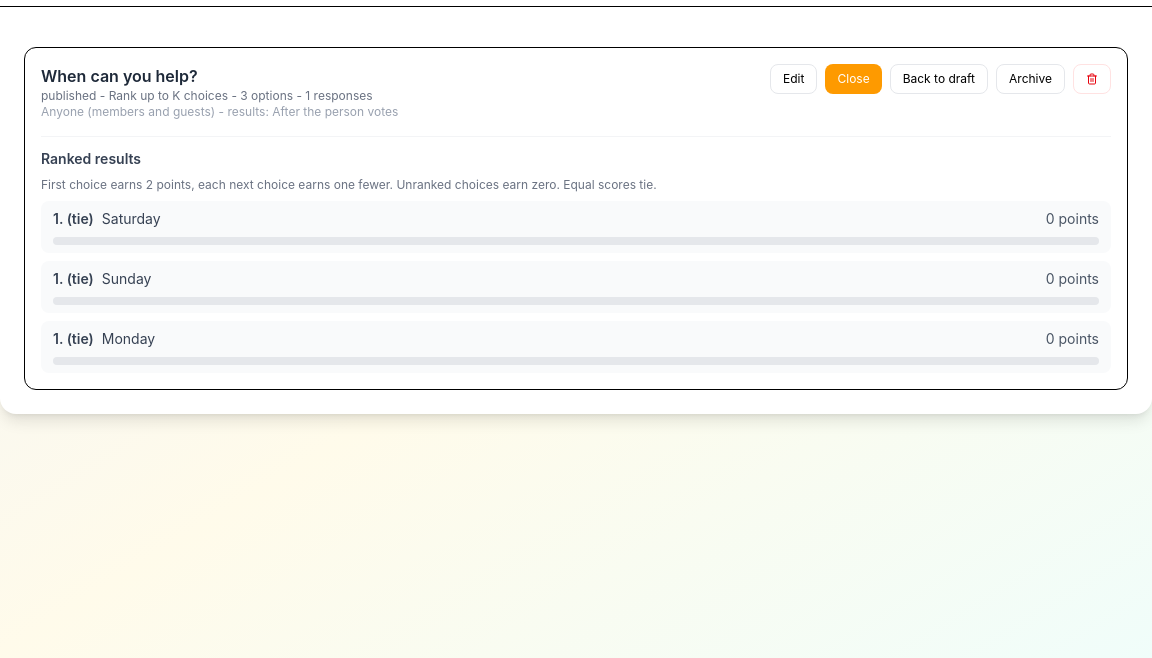
Scenario: locks the voting setup when editing a poll with responses
Click the button "Edit".
click(794, 79)  # box [770,64,818,94]
(page scrolled)
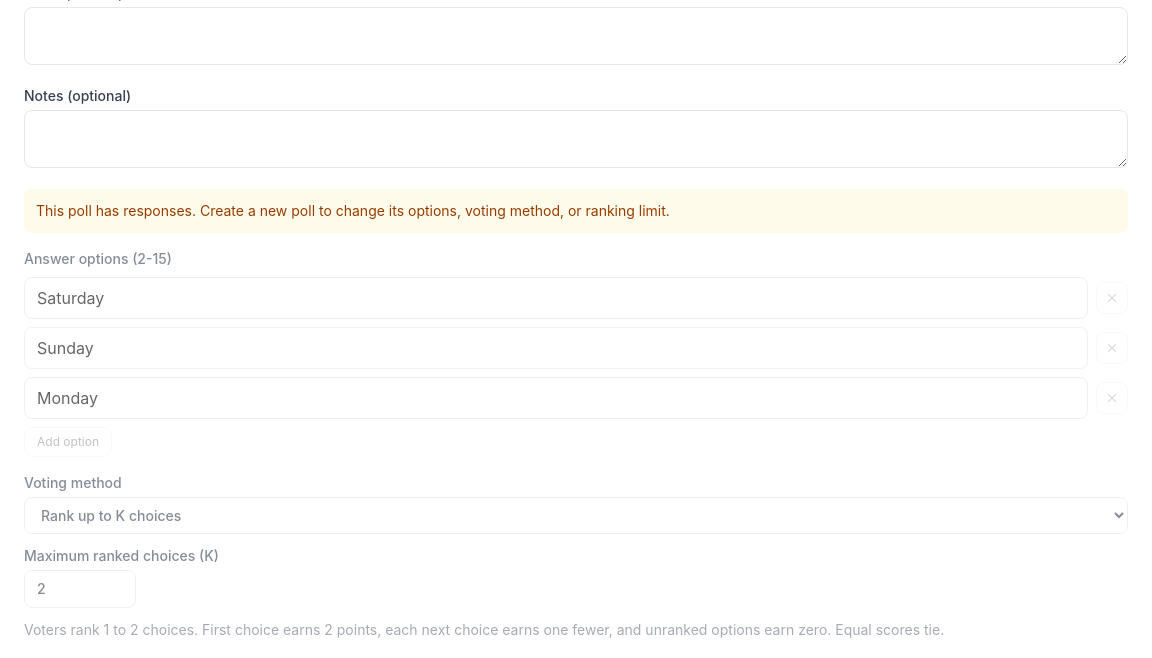
Expected: the dropdown labelled "Voting method" is disabled, [24,497,1128,534]
Expected: the number field labelled "Maximum ranked choices (K)" is disabled, [24,570,136,608]
Expected: the 1st field named "Option 1" is disabled, [24,277,1088,319]
